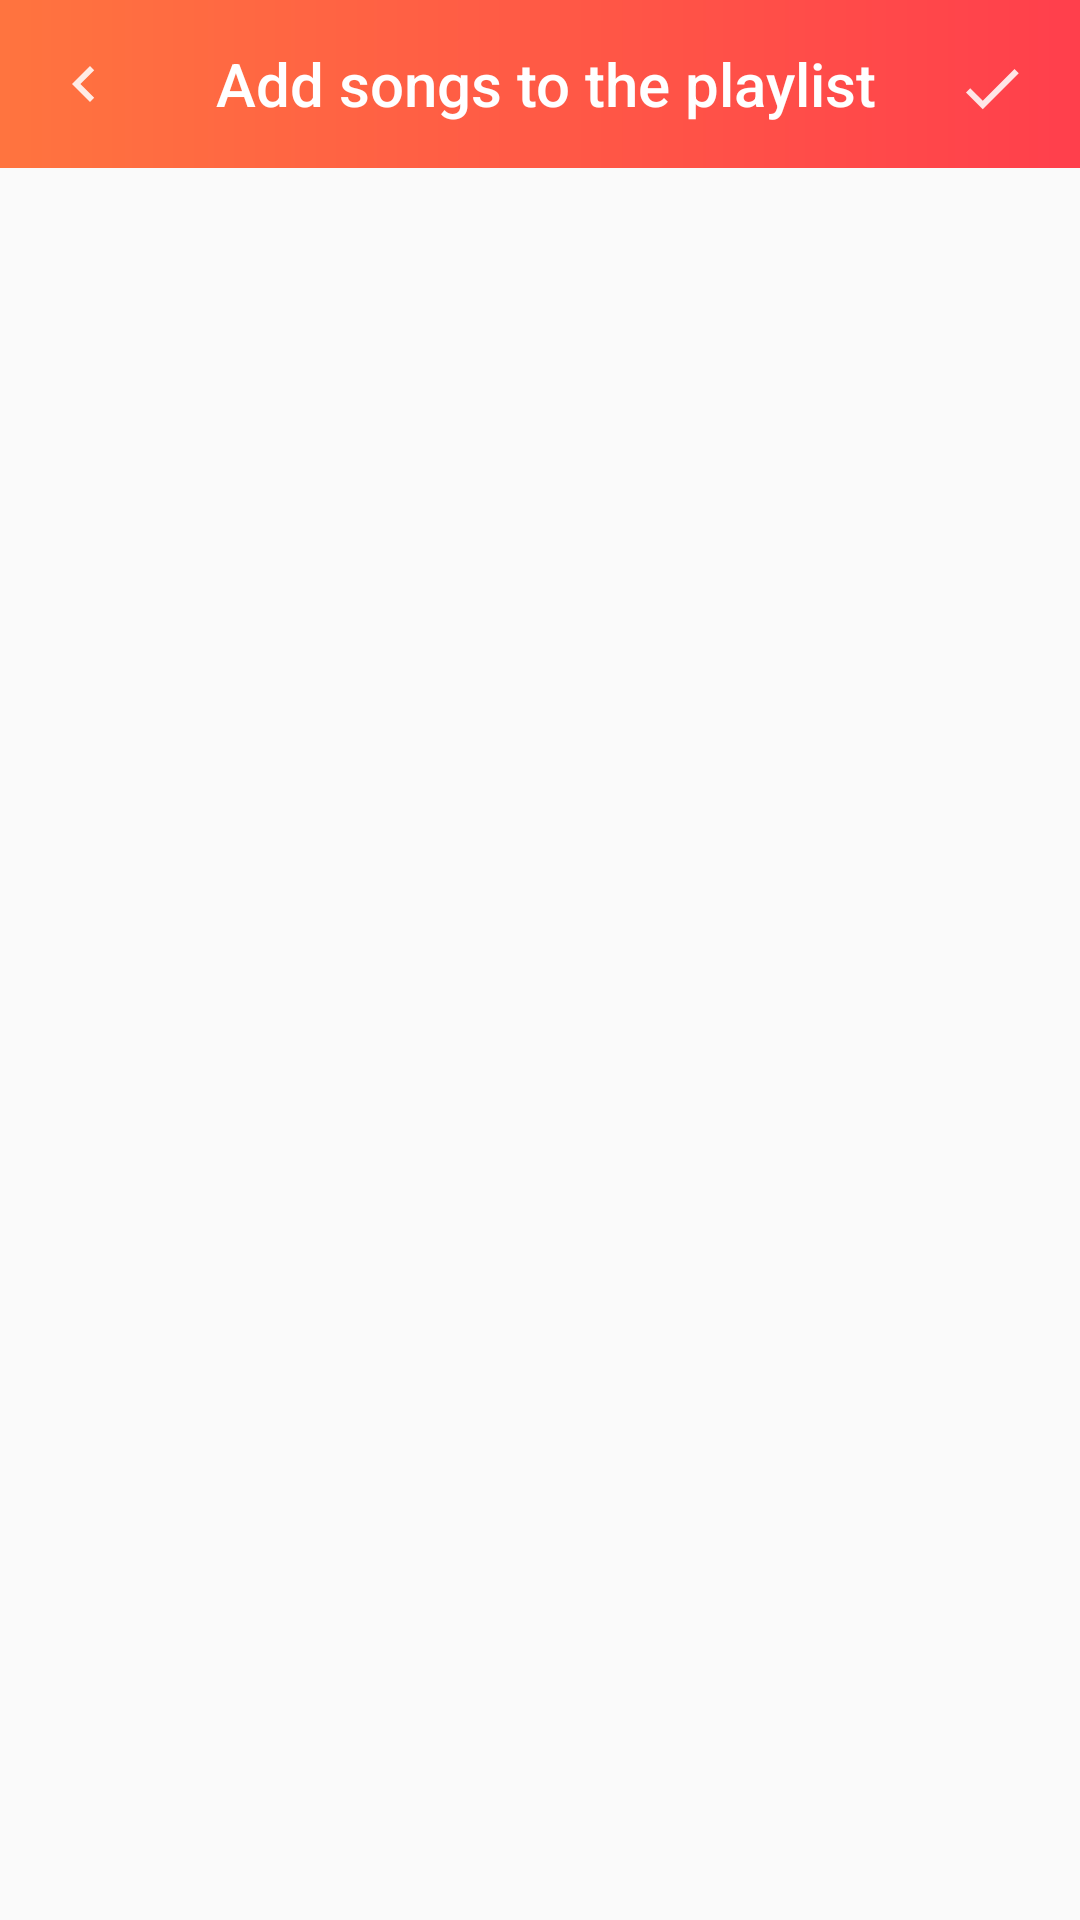

Screen size 1080 x 1920. Icon name, then its center in pixels as [x,y]:
done: [992,89]
